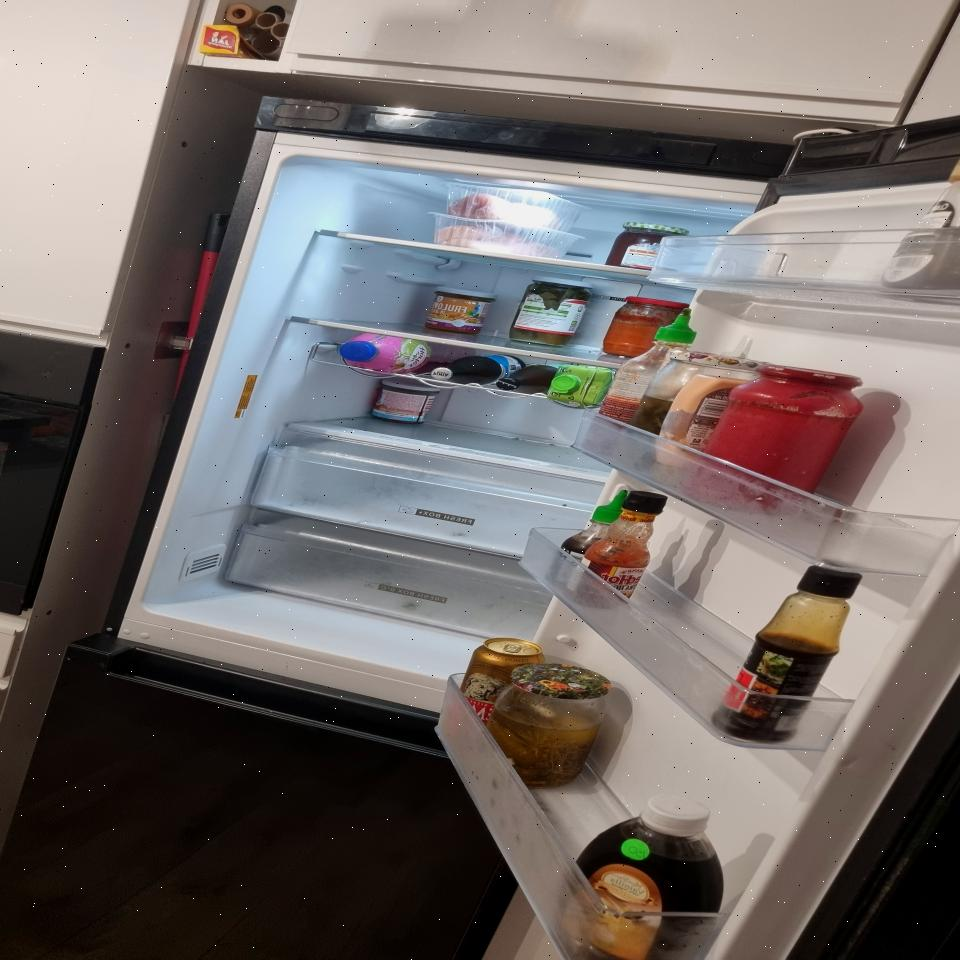Carne pollo: (438, 182, 598, 232), (426, 212, 588, 258)
